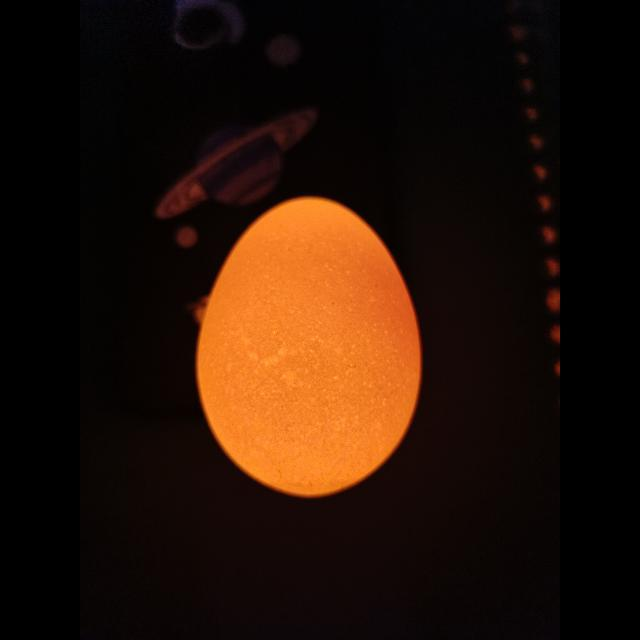AA - Premium: (196, 198, 421, 498)
